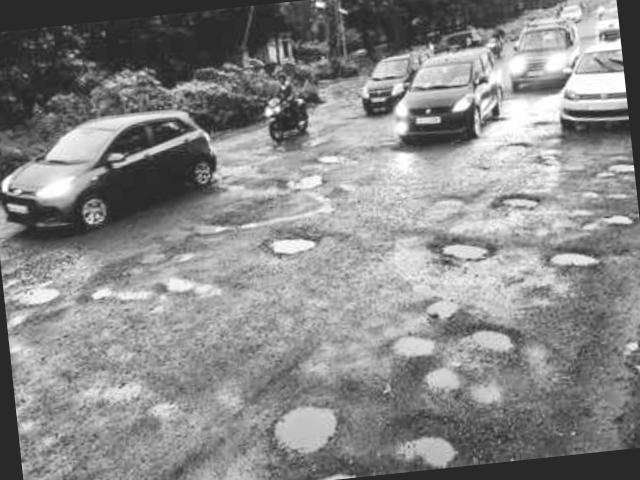Pothole: (372, 293, 538, 418), (0, 217, 143, 331), (251, 380, 347, 469), (528, 236, 615, 286), (386, 434, 492, 474), (283, 147, 355, 202), (429, 228, 498, 280), (259, 222, 326, 268), (502, 183, 552, 221)
